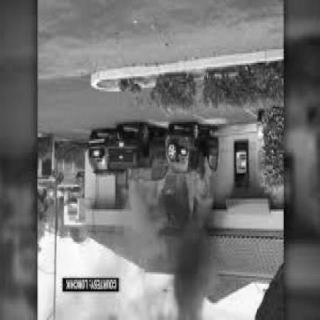Fire: (176, 140, 222, 218), (152, 170, 169, 207)
Smoke: (162, 191, 224, 320), (126, 179, 158, 267)
